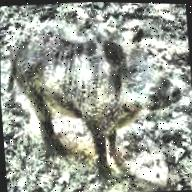boar: (2, 4, 192, 187)
